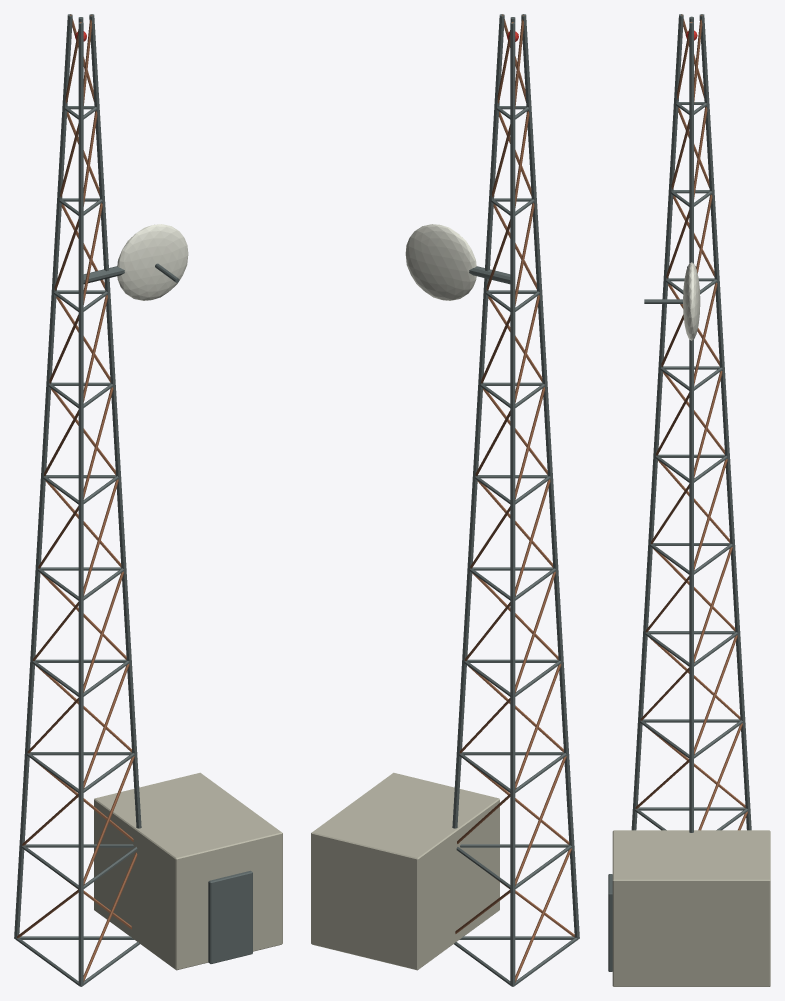
Rendered from radio_tower.glb.
3 renders of one model, left to right at view 1: azimuth 30°, elevation 25°; view 2: azimuth 150°, elevation 25°; view 3: azimuth 270°, elevation 25°, orthographic. The views are drawn at different scales.
Parts seen in each view (by area): view 1: radio_tower; view 2: radio_tower; view 3: radio_tower.
Boxes of the visible parts, x1,y1,x2,y2 form: radio_tower: [14, 14, 282, 986]; radio_tower: [311, 14, 579, 986]; radio_tower: [608, 14, 770, 986].
Bounding box in the file's own units: 5.47 × 25.05 × 4.11.
